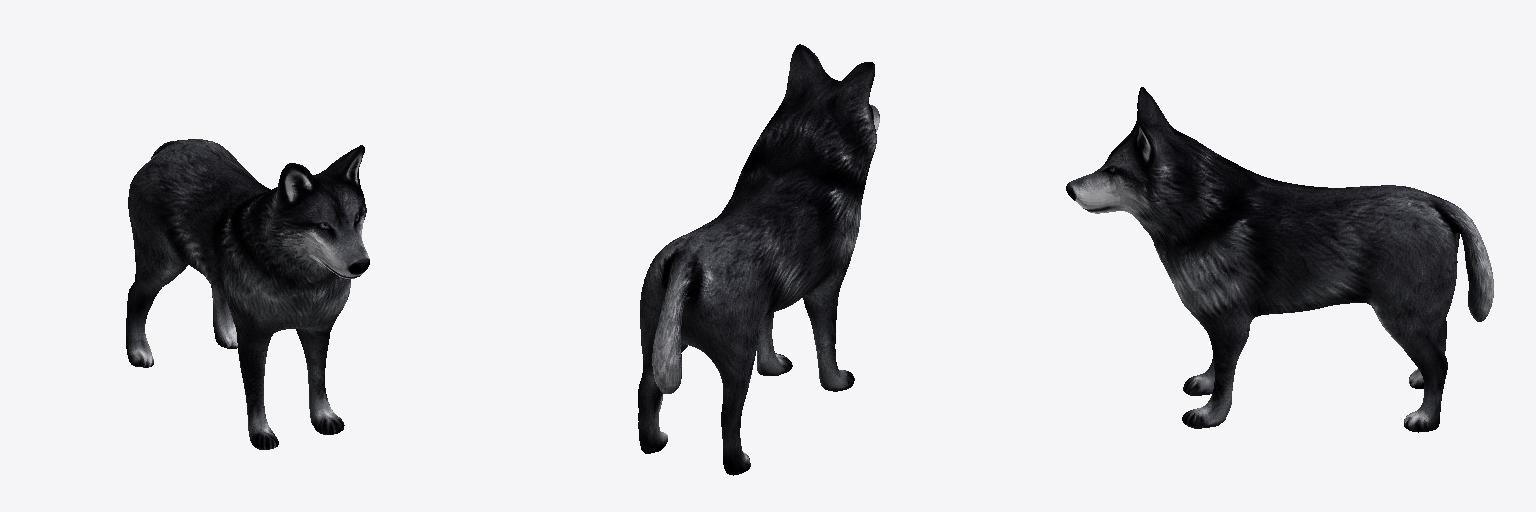
3 renders of one model, left to right at view 1: azimuth 30°, elevation 25°; view 2: azimuth 150°, elevation 25°; view 3: azimuth 270°, elevation 25°, orthographic.
Visible parts, largest first — view 1: Wolf_Quad; view 2: Wolf_Quad; view 3: Wolf_Quad.
Boxes of the visible parts, x1,y1,x2,y2 form: Wolf_Quad: [126, 139, 369, 449]; Wolf_Quad: [638, 44, 879, 475]; Wolf_Quad: [1066, 87, 1493, 432].
Bounding box in the file's own units: 0.4034 × 1.09 × 1.39.
Materials: 1 (1 with a texture image).